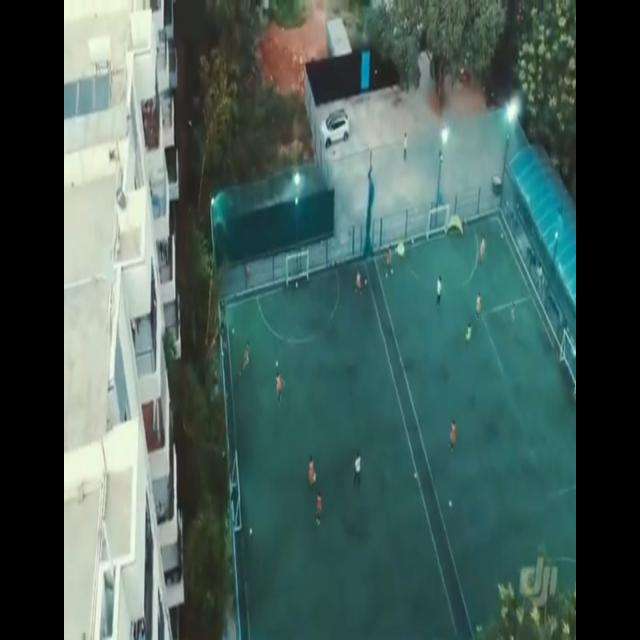humans: (238, 332, 255, 383), (444, 408, 460, 459), (351, 443, 365, 499), (273, 366, 288, 413), (434, 264, 446, 318), (312, 488, 326, 532), (306, 443, 318, 493), (473, 286, 488, 324), (354, 260, 366, 304), (477, 220, 486, 270), (402, 124, 411, 162), (466, 316, 476, 347)
